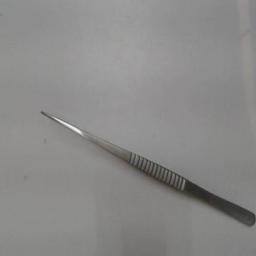DeBakey Dissector: (29, 104, 255, 234)
